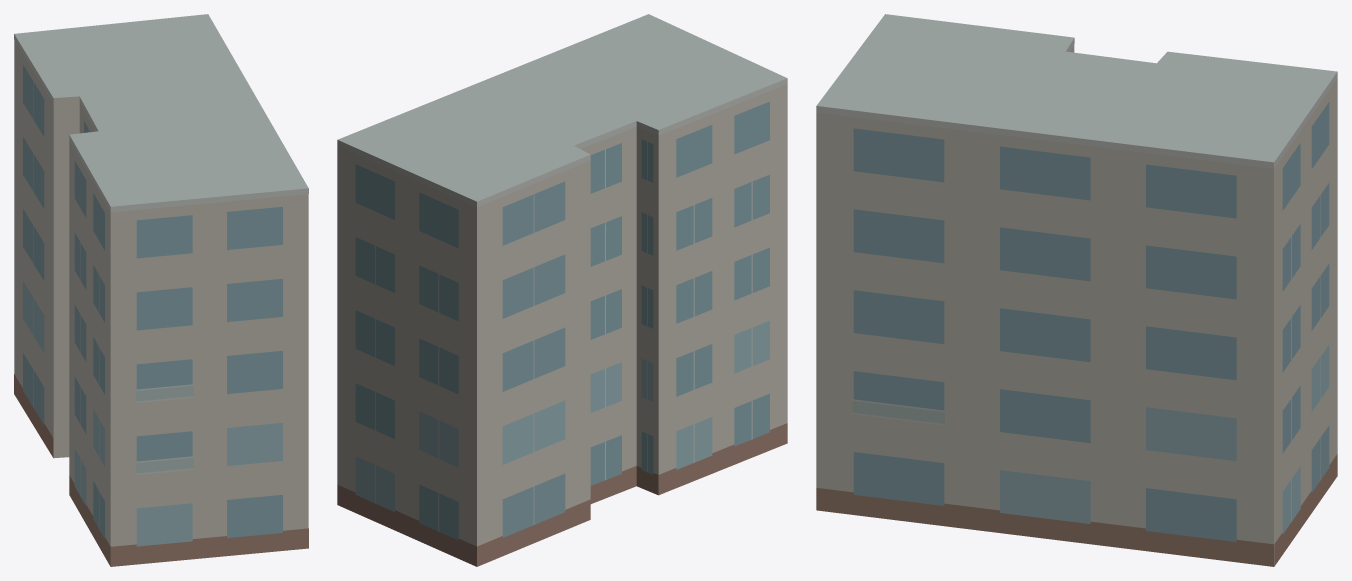
File: survey-upis-32996714.glb
3 renders of one model, left to right at view 1: azimuth 30°, elevation 25°; view 2: azimuth 150°, elevation 25°; view 3: azimuth 270°, elevation 25°, orthographic. The views are drawn at different scales.
Parts seen in each view (by area): view 1: survey-upis-32996714.tmp; view 2: survey-upis-32996714.tmp; view 3: survey-upis-32996714.tmp.
Boxes of the visible parts, left/top/right/bottom form: survey-upis-32996714.tmp: left=14, top=14, right=308, bottom=566; survey-upis-32996714.tmp: left=337, top=14, right=787, bottom=566; survey-upis-32996714.tmp: left=816, top=14, right=1337, bottom=566.
Size of the model in its own units: 12.28 by 15.6 by 18.23.
